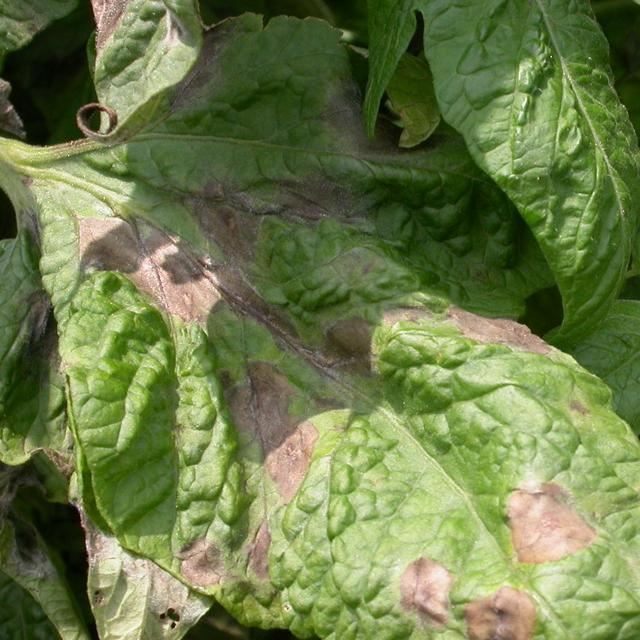Tomato leaf late blight: (0, 126, 640, 640)
